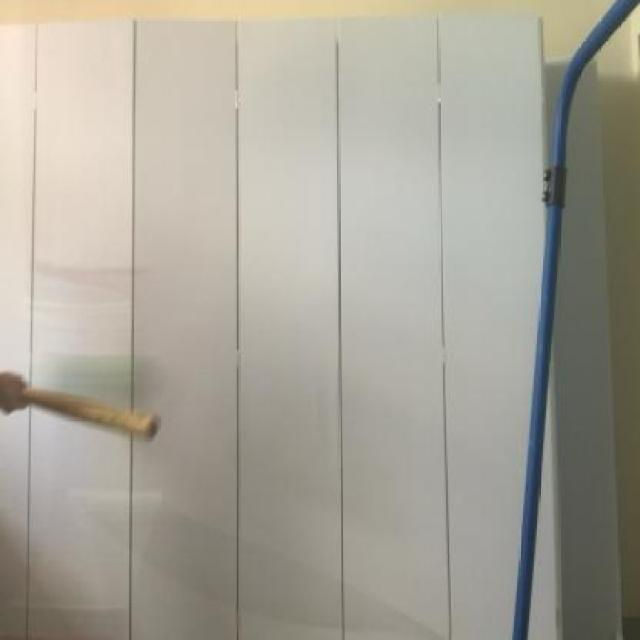baseball: (23, 333, 179, 432)
